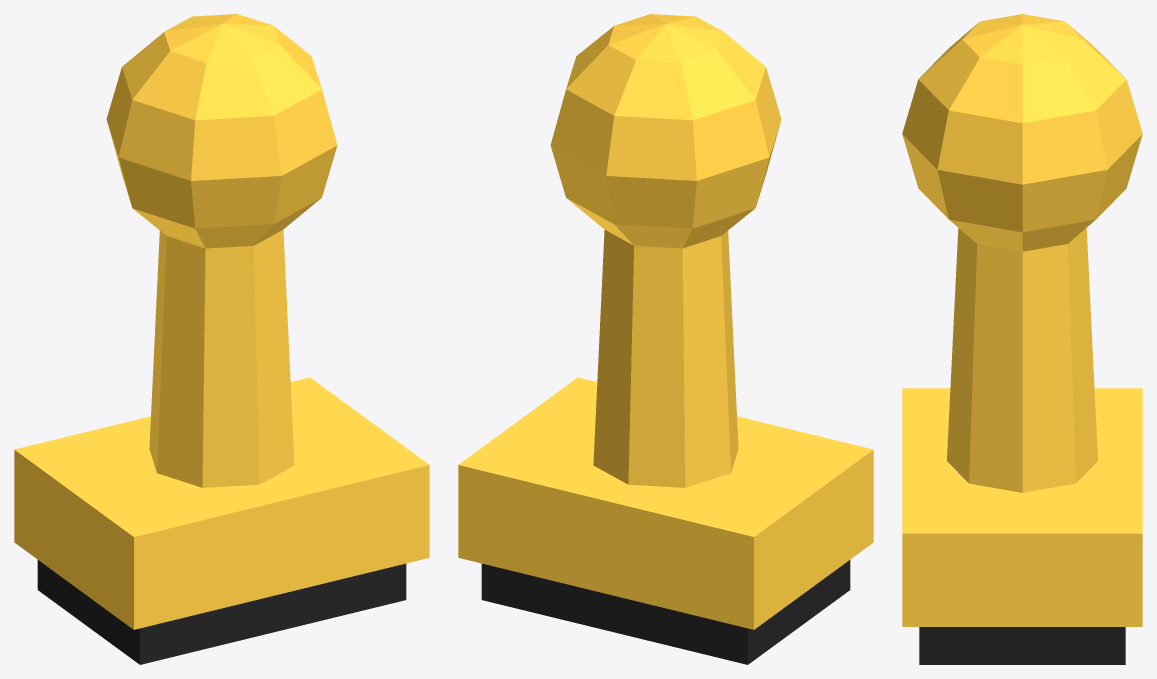
The model's file is golden_stamp.glb.
3 renders of one model, left to right at view 1: azimuth 30°, elevation 25°; view 2: azimuth 150°, elevation 25°; view 3: azimuth 270°, elevation 25°, orthographic.
Parts seen in each view (by area): view 1: handle_gold, base_gold, base_stamp_rubber; view 2: handle_gold, base_gold, base_stamp_rubber; view 3: handle_gold, base_gold, base_stamp_rubber.
Part boxes in pixels (x1,y1,x2,y2): handle_gold: (106, 14, 337, 487); base_gold: (14, 377, 429, 629); base_stamp_rubber: (37, 560, 406, 664); handle_gold: (550, 14, 781, 487); base_gold: (458, 377, 873, 629); base_stamp_rubber: (481, 560, 850, 664); handle_gold: (902, 14, 1142, 492); base_gold: (902, 388, 1142, 626); base_stamp_rubber: (919, 627, 1125, 664).
Size of the model in its own units: 0.1 by 0.1845 by 0.07.
